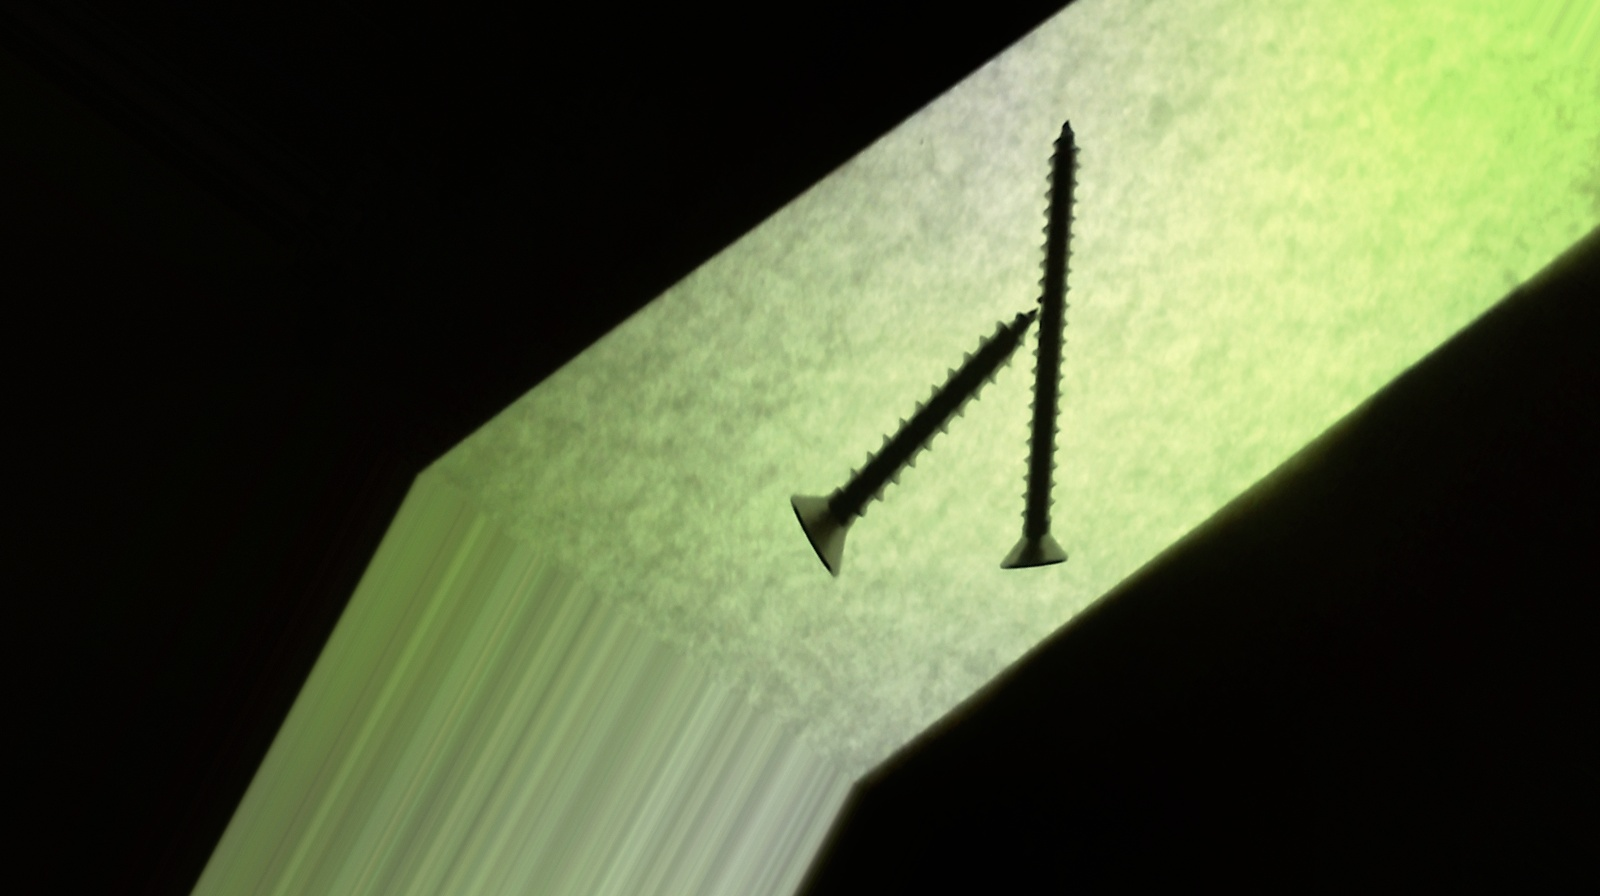S001: (769, 232, 1043, 617)
S002: (867, 117, 1240, 605)
